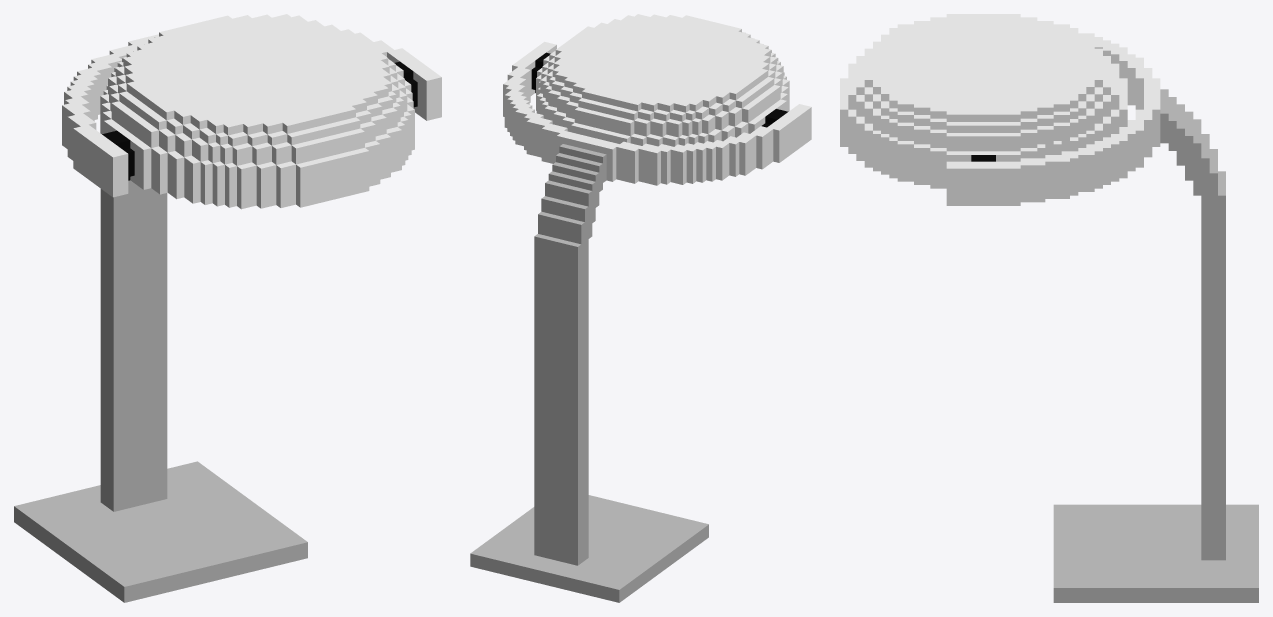
Rendered from Autopsy_room_Light1-1.fbx.
3 views of the same model, side by side, from view 1: azimuth 30°, elevation 25°; view 2: azimuth 150°, elevation 25°; view 3: azimuth 270°, elevation 25° (orthographic). The views are drawn at different scales.
Visible parts, largest first — view 1: Autopsy room Light1-1.001, Autopsy room Light1-1.002; view 2: Autopsy room Light1-1.001, Autopsy room Light1-1.002; view 3: Autopsy room Light1-1.001, Autopsy room Light1-1.002.
Part boxes in pixels (x1,y1,x2,y2): Autopsy room Light1-1.001: (14, 32, 441, 602); Autopsy room Light1-1.002: (100, 14, 414, 209); Autopsy room Light1-1.001: (470, 41, 811, 602); Autopsy room Light1-1.002: (536, 14, 789, 146); Autopsy room Light1-1.001: (946, 33, 1258, 602); Autopsy room Light1-1.002: (840, 14, 1127, 188).
Size of the model in its own units: 4.3 by 6.7 by 5.1.
